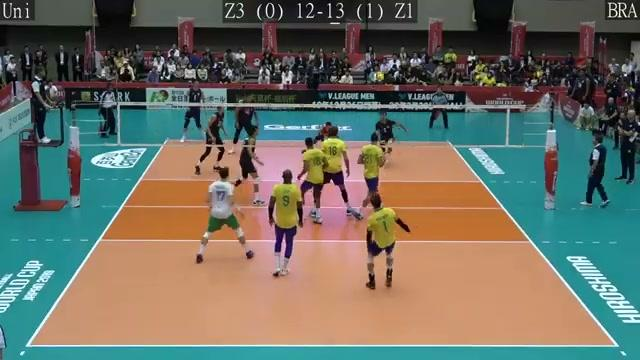ball: (377, 73, 388, 83)
